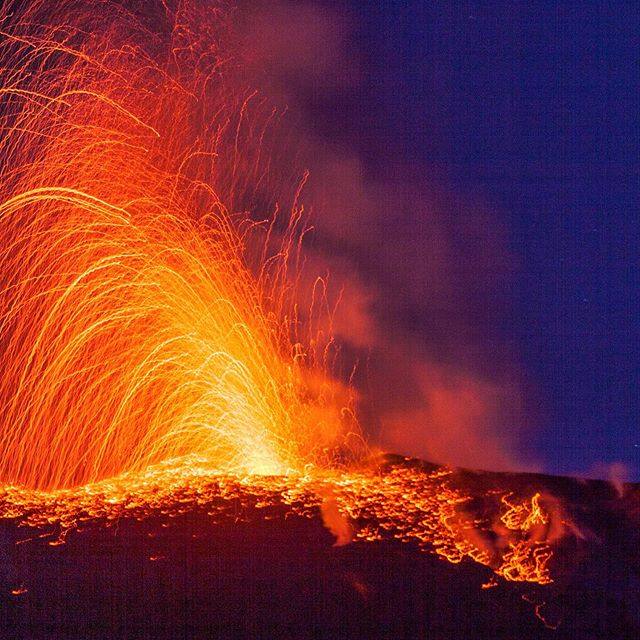lava: (1, 1, 537, 598)
sky: (306, 1, 640, 430)
